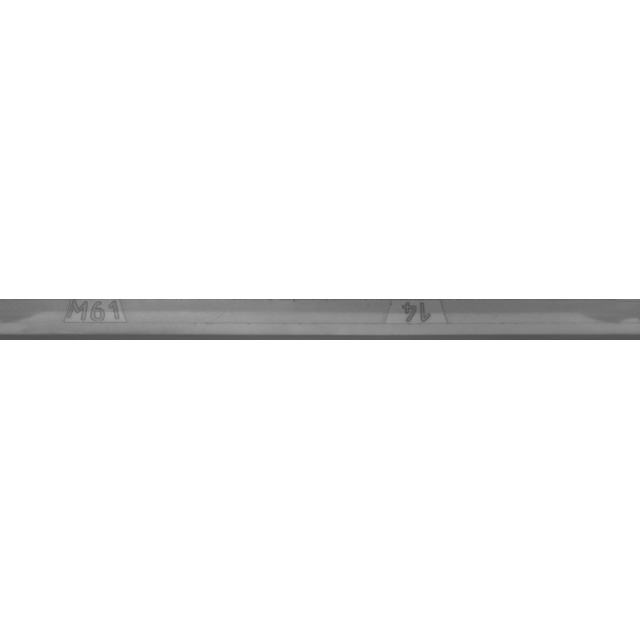mohao: (0, 270, 195, 370)
xuehao: (313, 270, 513, 370)
